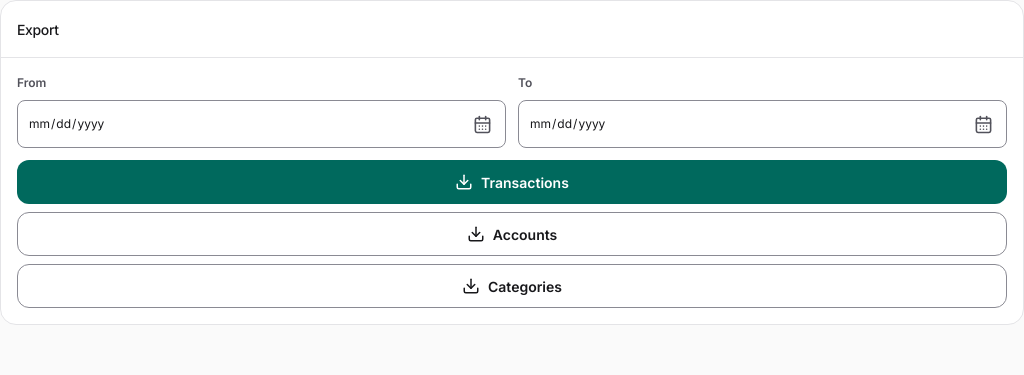
ExportCard › shows the API's message when a download fails
This screenshot has width=1024, height=375.
Click the button with aria-label "Download accounts": (512, 234) x1=17 y1=212 x2=1007 y2=256
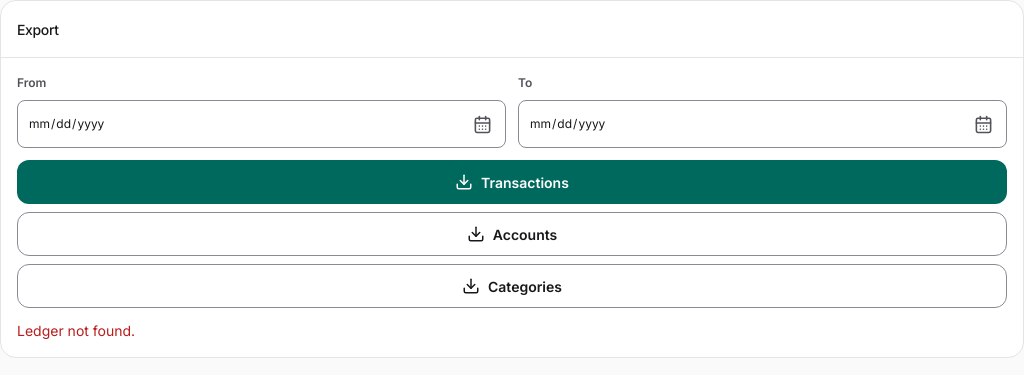
expect the message reads "Ledger not found.": met, box x1=17 y1=322 x2=135 y2=339
